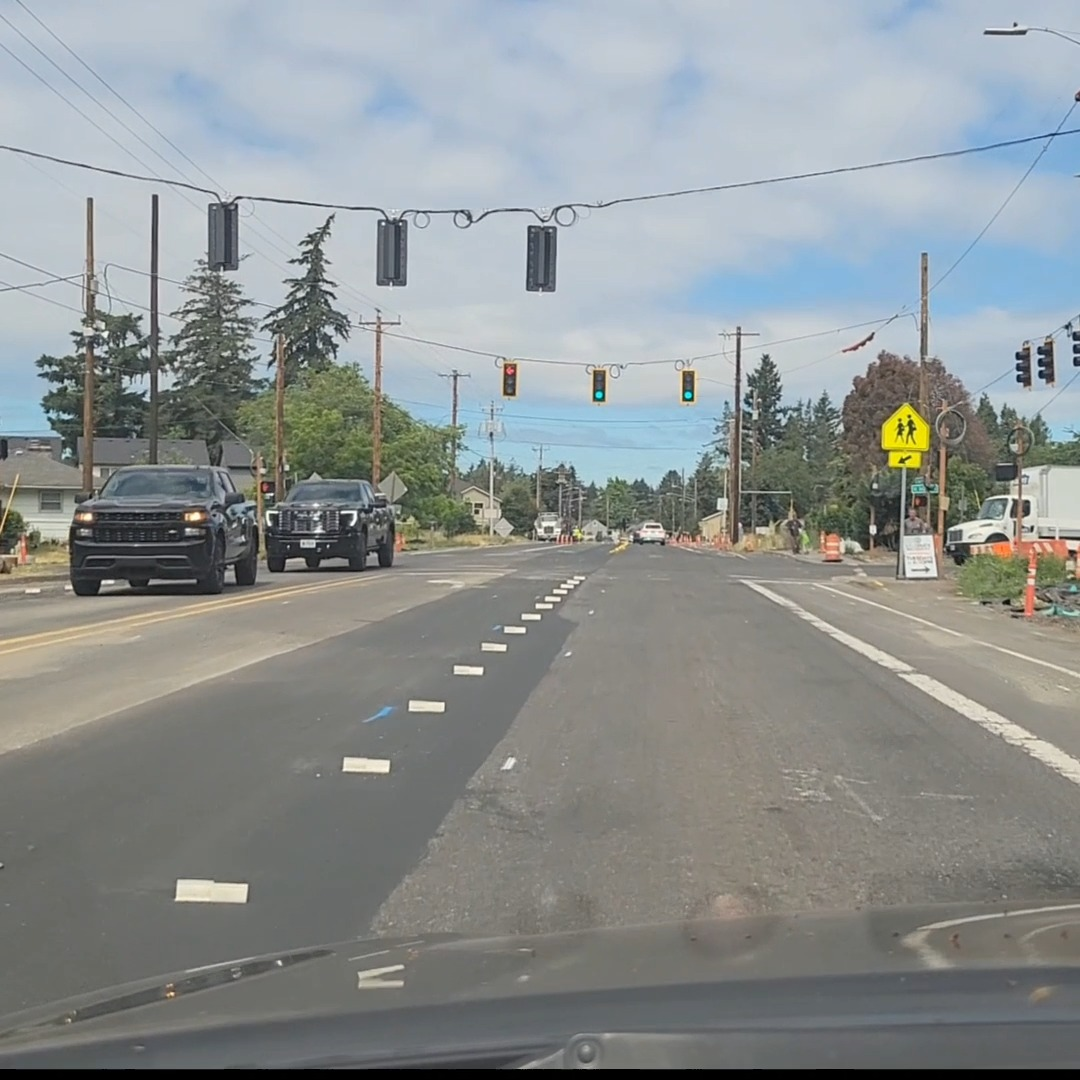car: (65, 464, 259, 595), (261, 479, 395, 572), (631, 521, 667, 545)
crosswalk-sign: (880, 402, 930, 453)
delineator: (1023, 553, 1037, 618), (17, 534, 28, 565)
